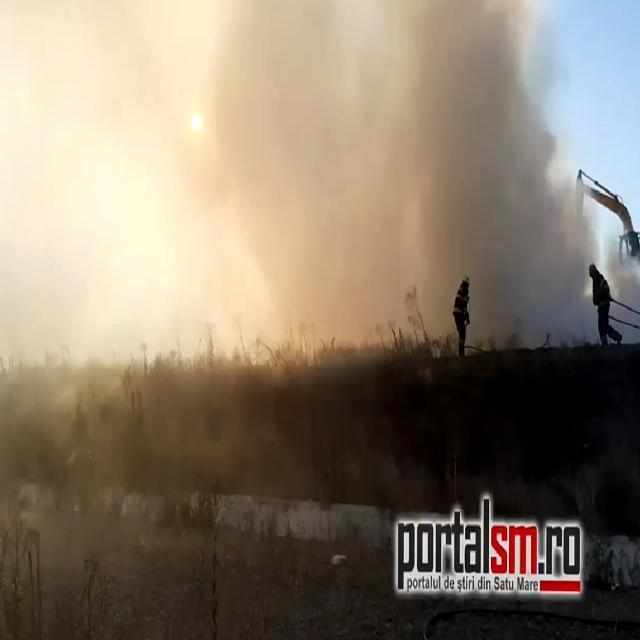Smoke: (218, 0, 606, 371)
